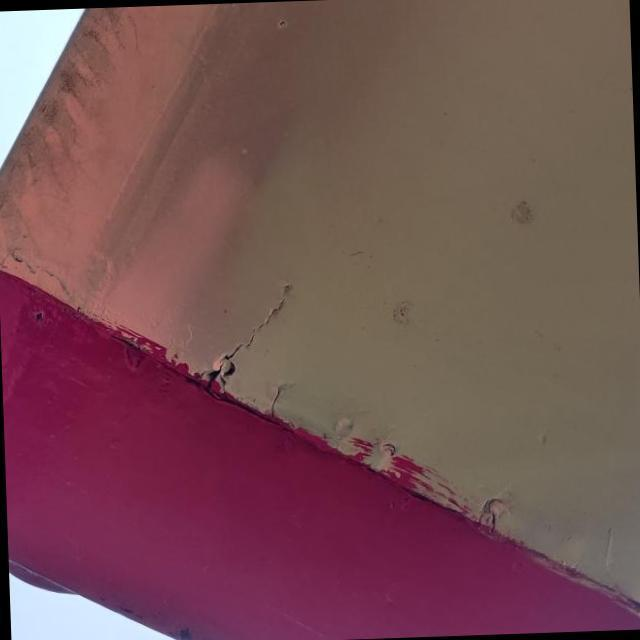Rupture: (190, 272, 306, 404), (256, 376, 296, 426), (474, 498, 504, 541)
